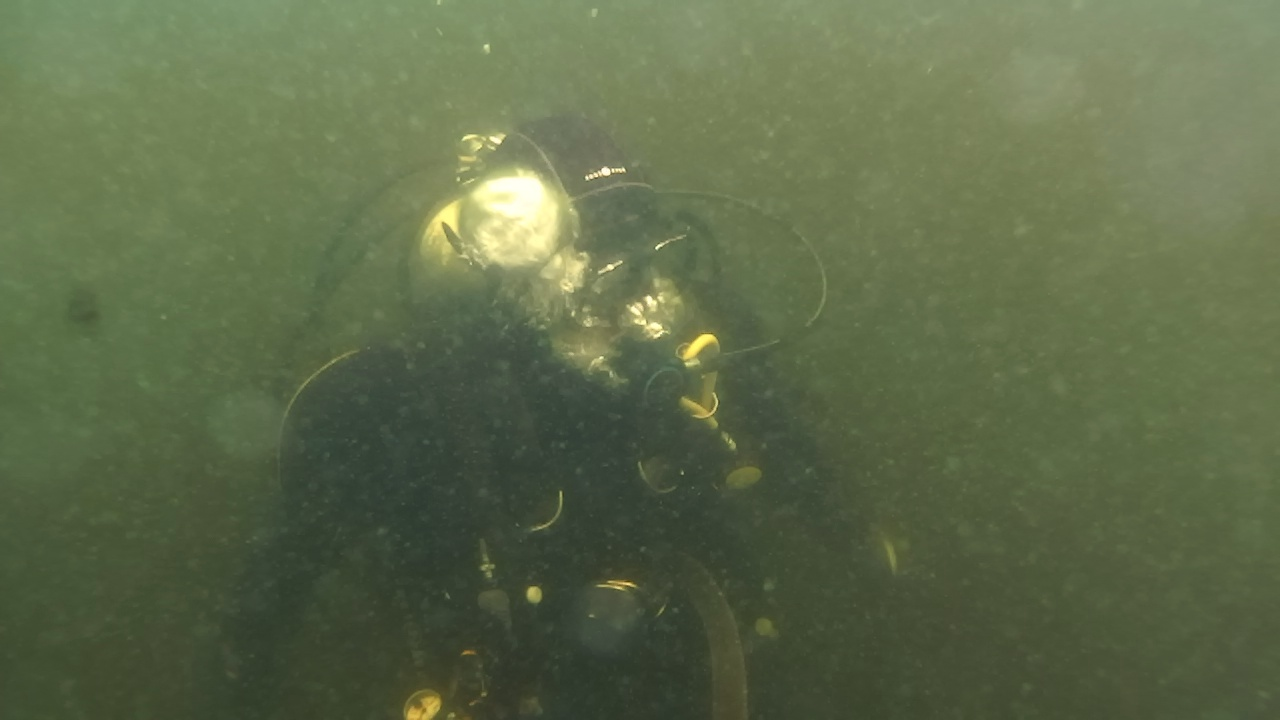Diver: (290, 92, 836, 712)
